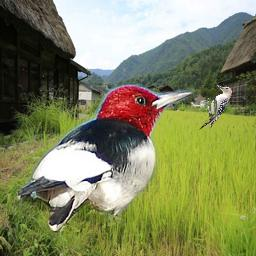Woodpecker: (16, 84, 197, 234), (199, 84, 233, 130)
